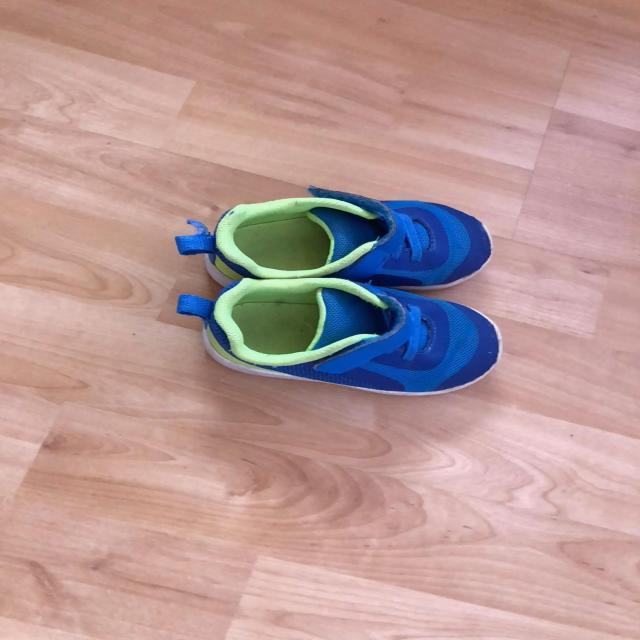shoe: (180, 258, 502, 398), (216, 199, 494, 293)
